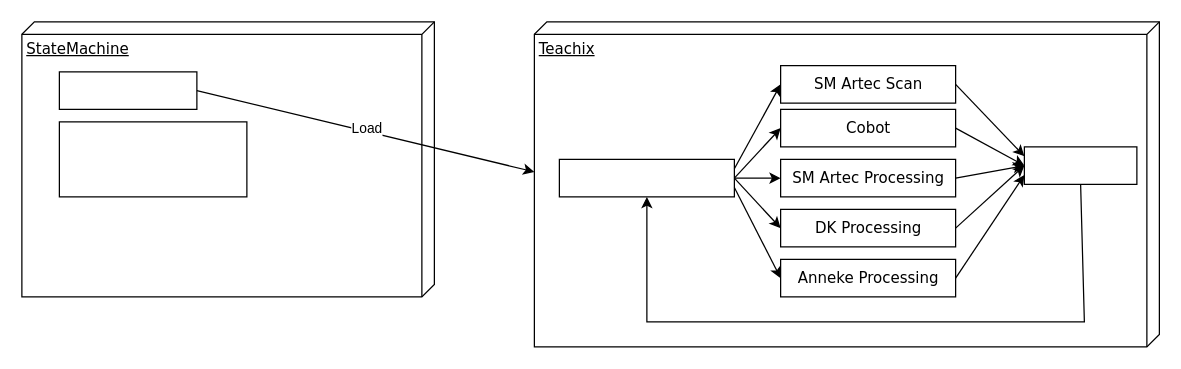
This 1181x369 diagram has some shape labels left out. The centre of each missing label's shape, as x and y in pixels:
"command images command texts" belongs at point 152,159.
"Commands" belongs at point 1080,165.
"Commands Queue" belongs at point 646,177.
"json file" belongs at point 127,90.
